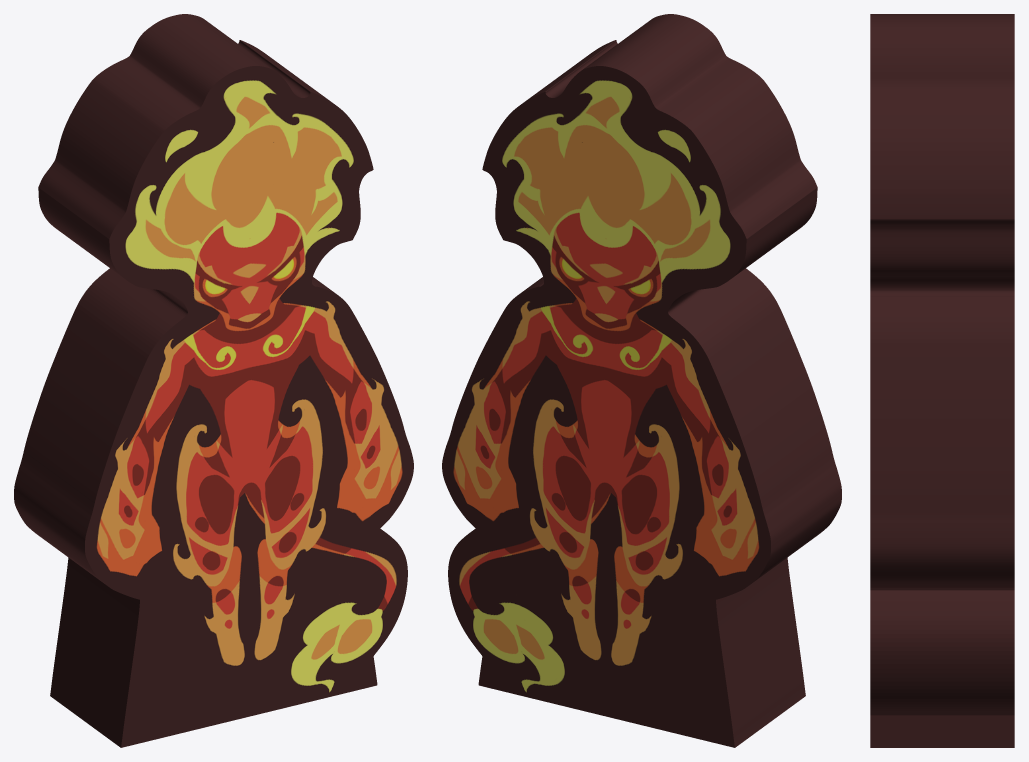
Rendered from elemental_fire.glb.
The picture shows the model from 3 angles, left to right: view 1: azimuth 30°, elevation 25°; view 2: azimuth 150°, elevation 25°; view 3: azimuth 270°, elevation 25°; orthographic projection.
Parts seen in each view (by area): view 1: path171; view 2: path171; view 3: path171.
Part boxes in pixels (box(x1,y1,x2,y2)): path171: box(14, 14, 413, 747); path171: box(442, 14, 841, 747); path171: box(870, 14, 1014, 747).
Size of the model in its own units: 0.1456 by 0.2749 by 0.0544.
1 material, 1 textured.
